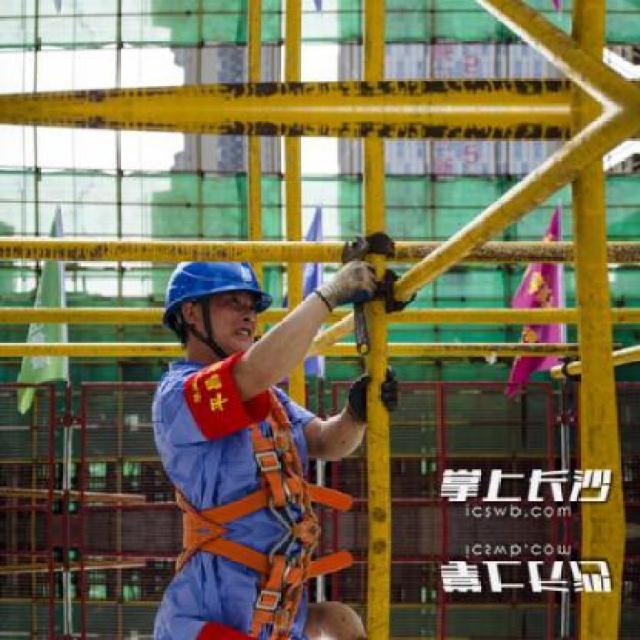helmet: (148, 248, 282, 362)
